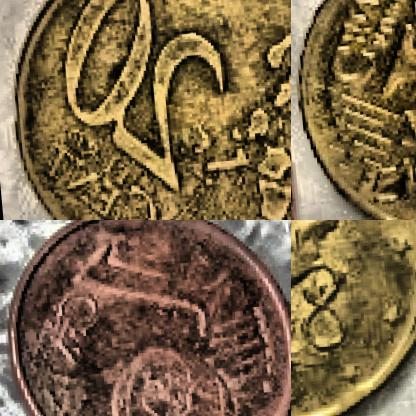coin: (0, 0, 290, 219), (0, 220, 290, 415), (291, 0, 415, 219), (291, 220, 415, 415)
